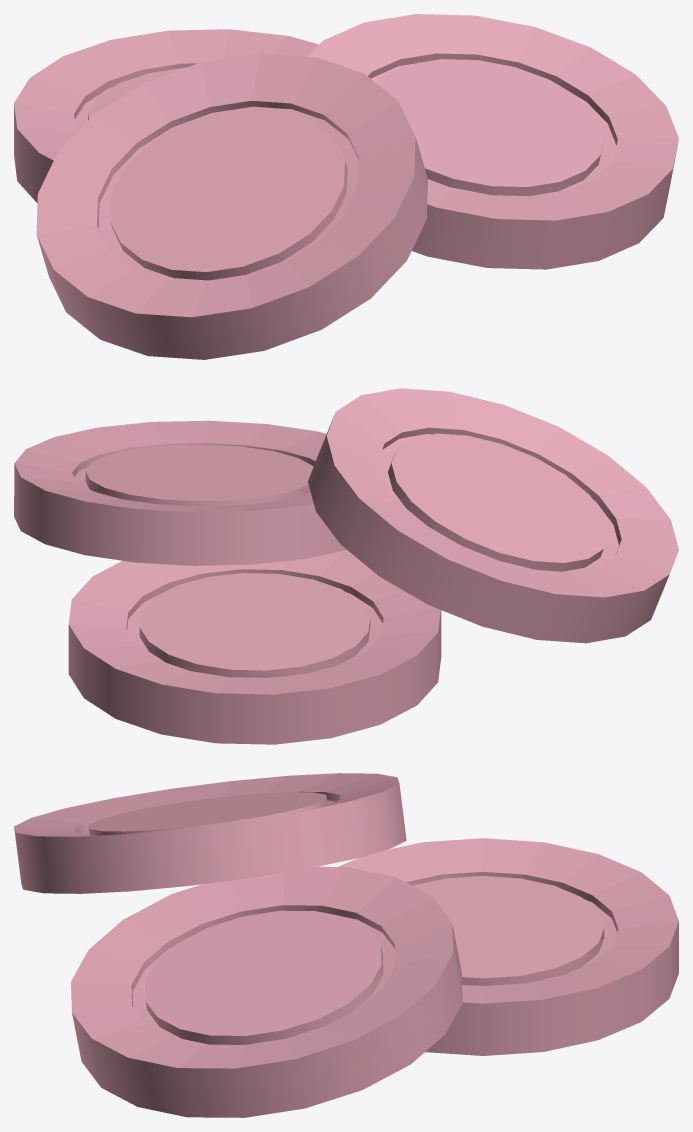
Rendered from PokerChipPile.fbx.
The picture shows the model from 3 angles, top to bottom: view 1: azimuth 30°, elevation 25°; view 2: azimuth 150°, elevation 25°; view 3: azimuth 270°, elevation 25°; orthographic projection. The views are drawn at different scales.
Parts seen in each view (by area): view 1: PokerChipPile; view 2: PokerChipPile; view 3: PokerChipPile.
Boxes of the visible parts, x1,y1,x2,y2 form: PokerChipPile: (14,14,678,359); PokerChipPile: (14,388,678,744); PokerChipPile: (14,773,678,1117).
Size of the model in its own units: 10.34 by 2.73 by 9.69.
